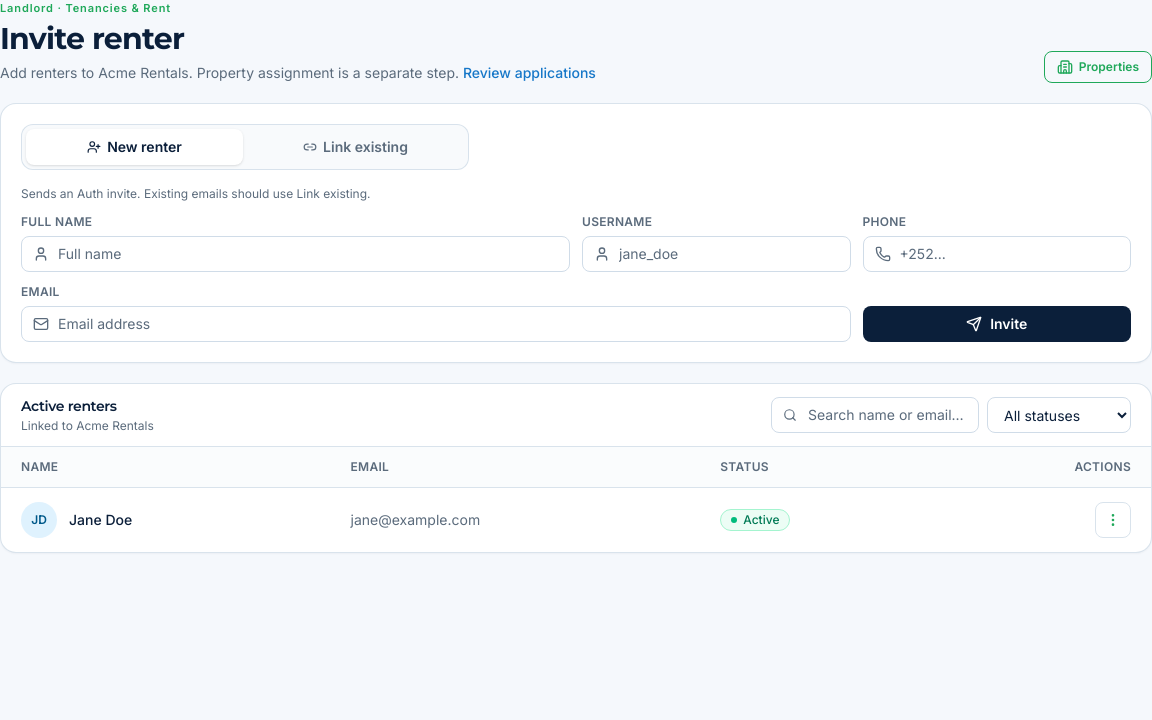
it: InviteRenterPage › Delete confirms then disables membership via manage_membership
The image size is (1152, 720).
Click the button named "actions for jane doe". click: (1113, 520)
box: x1=1095 y1=502 x2=1131 y2=538
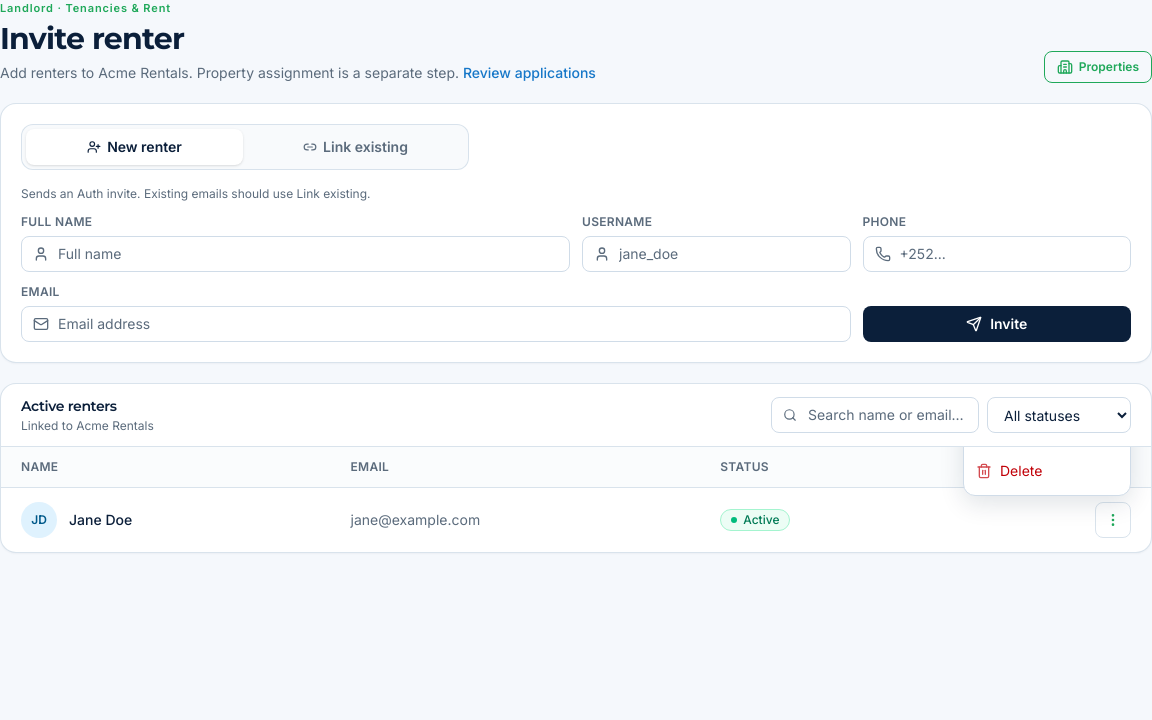
Click the menu item "Delete". click: (1047, 470)
box: x1=964 y1=450 x2=1130 y2=490
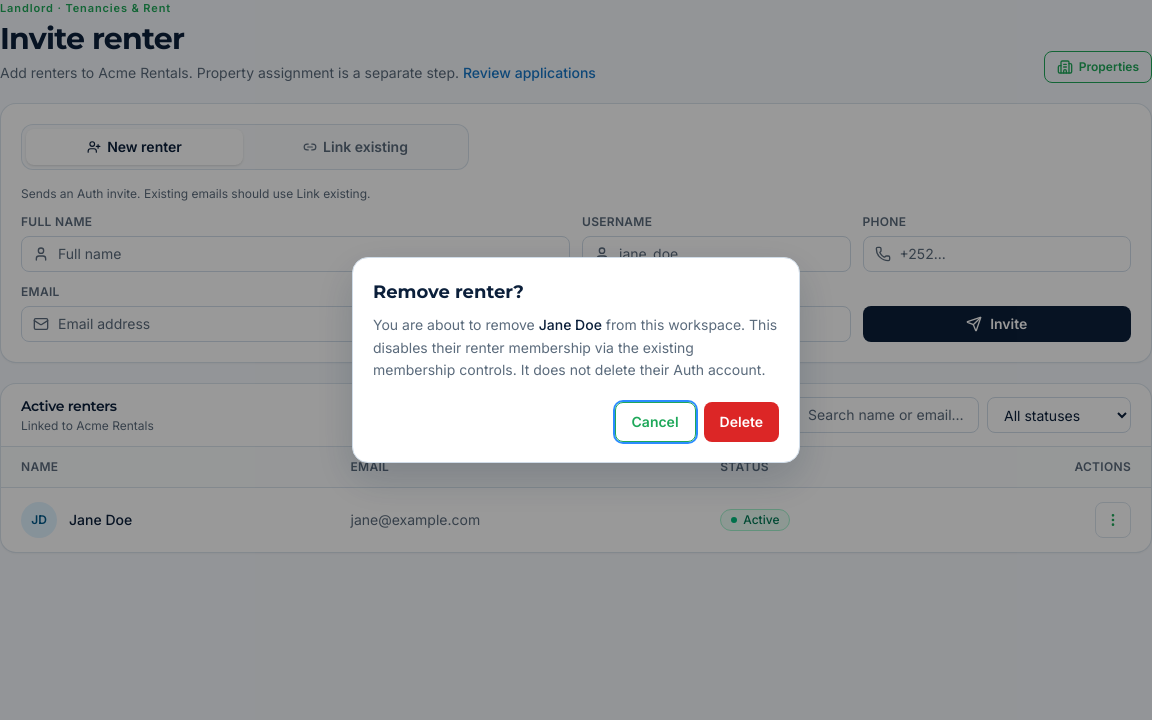
Click the button "Delete". click: (741, 422)
box: x1=704 y1=402 x2=779 y2=442
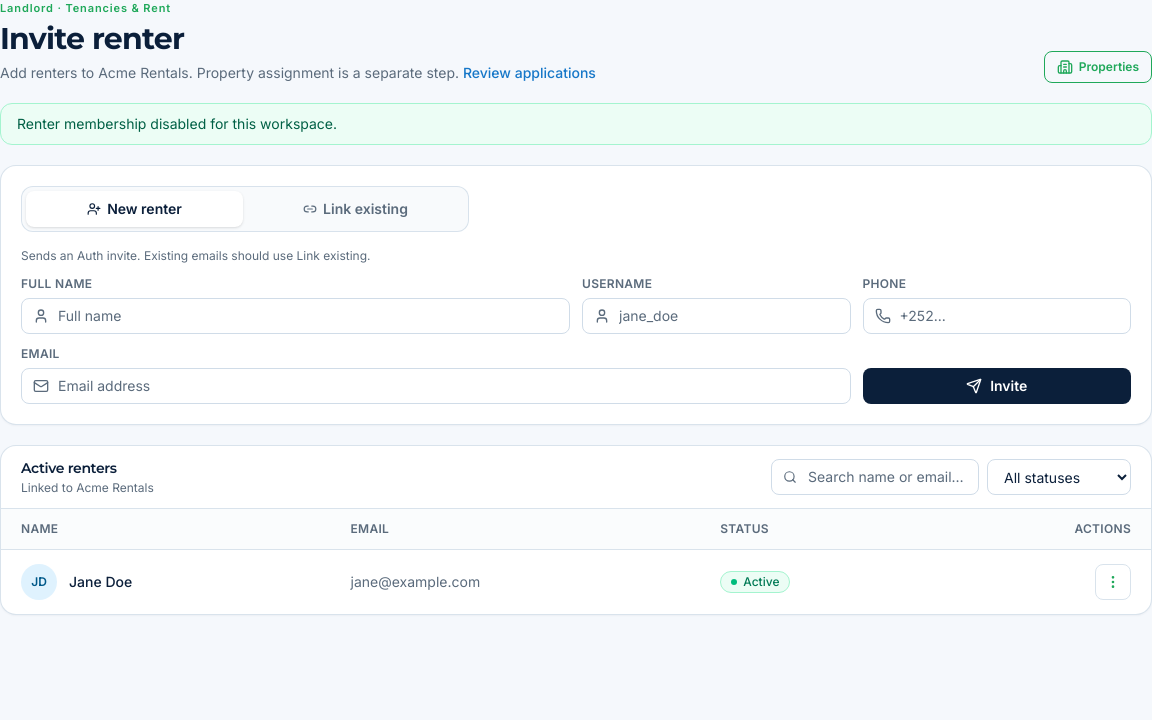
Check: the message shows "membership disabled", box x1=17 y1=114 x2=337 y2=132
